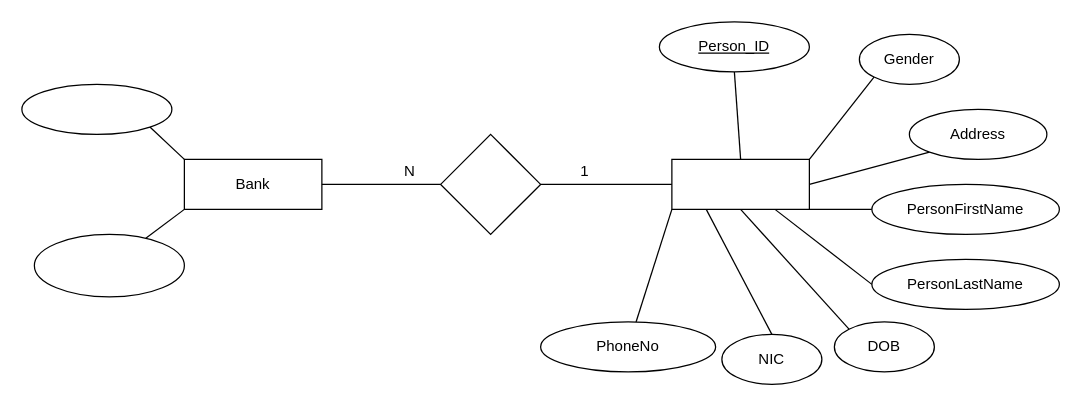
This 1081x406 diagram has some shape labels left out. Each missing label, with the box of its shape:
Bank_ID: (21, 83, 172, 134)
Bank_Name: (33, 233, 184, 297)
Can Have: (439, 133, 541, 234)
Person: (671, 158, 809, 209)
